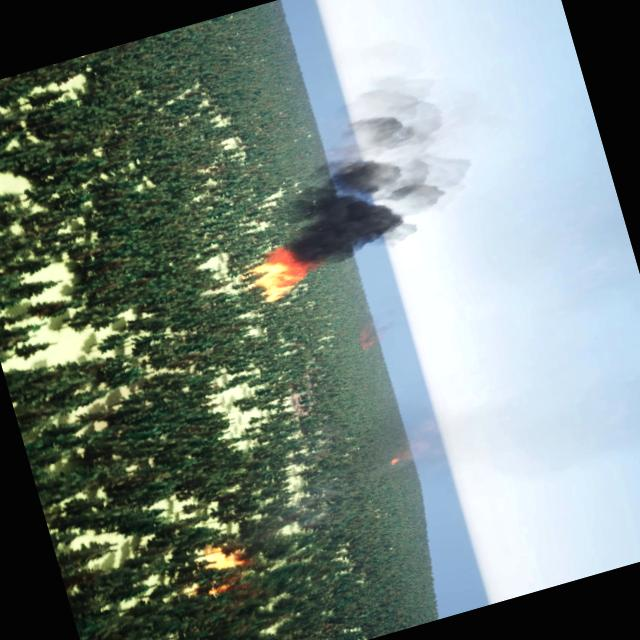fire: (196, 536, 262, 606), (244, 241, 310, 310)
smoke: (254, 57, 493, 280), (351, 318, 397, 354), (383, 436, 432, 468)
